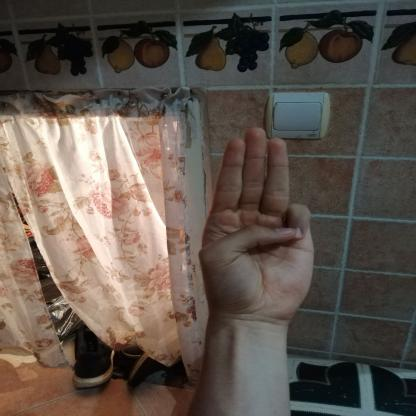THA: (183, 115, 327, 326)
